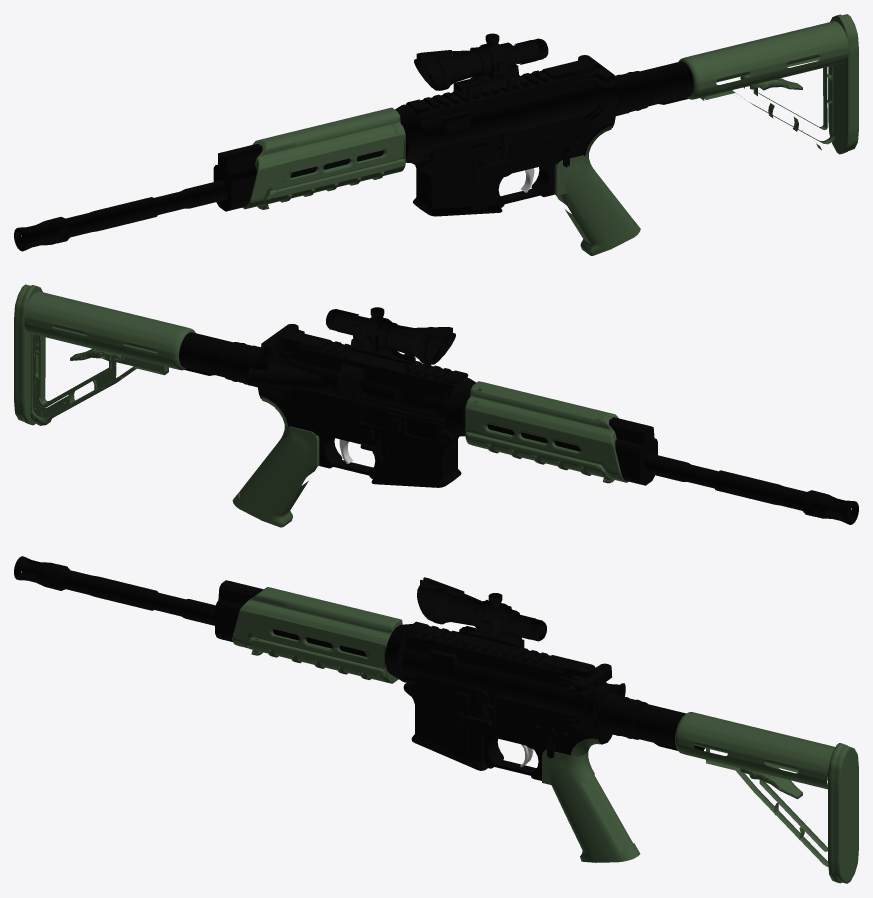
File: Machine Gun.glb
3 renders of one model, top to bottom at view 1: azimuth 30°, elevation 25°; view 2: azimuth 150°, elevation 25°; view 3: azimuth 330°, elevation 25°, orthographic.
Parts seen in each view (by area): view 1: Lower001, green, Handle_green; view 2: Lower001, green, Handle_green; view 3: Lower001, green, Handle_green.
Boxes of the visible parts, x1,y1,x2,y2 form: Lower001: (14, 33, 693, 251); green: (243, 14, 858, 209); Handle_green: (554, 125, 640, 255); Lower001: (179, 307, 858, 524); green: (14, 284, 628, 483); Handle_green: (232, 396, 319, 527); Lower001: (14, 556, 705, 780); green: (232, 587, 858, 883); Handle_green: (542, 738, 640, 862).
Bounding box in the file's own units: 2.72 × 0.7453 × 0.2261.
